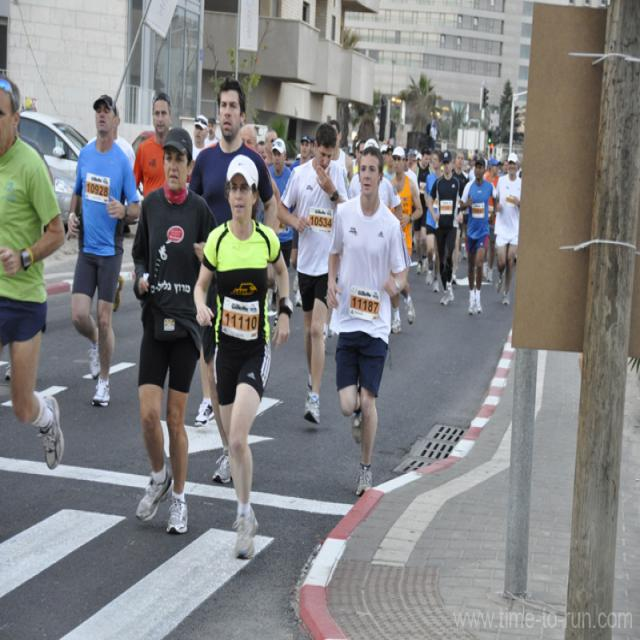Bib: (224, 304, 258, 333), (352, 295, 378, 316), (85, 180, 110, 198), (309, 212, 333, 230)
